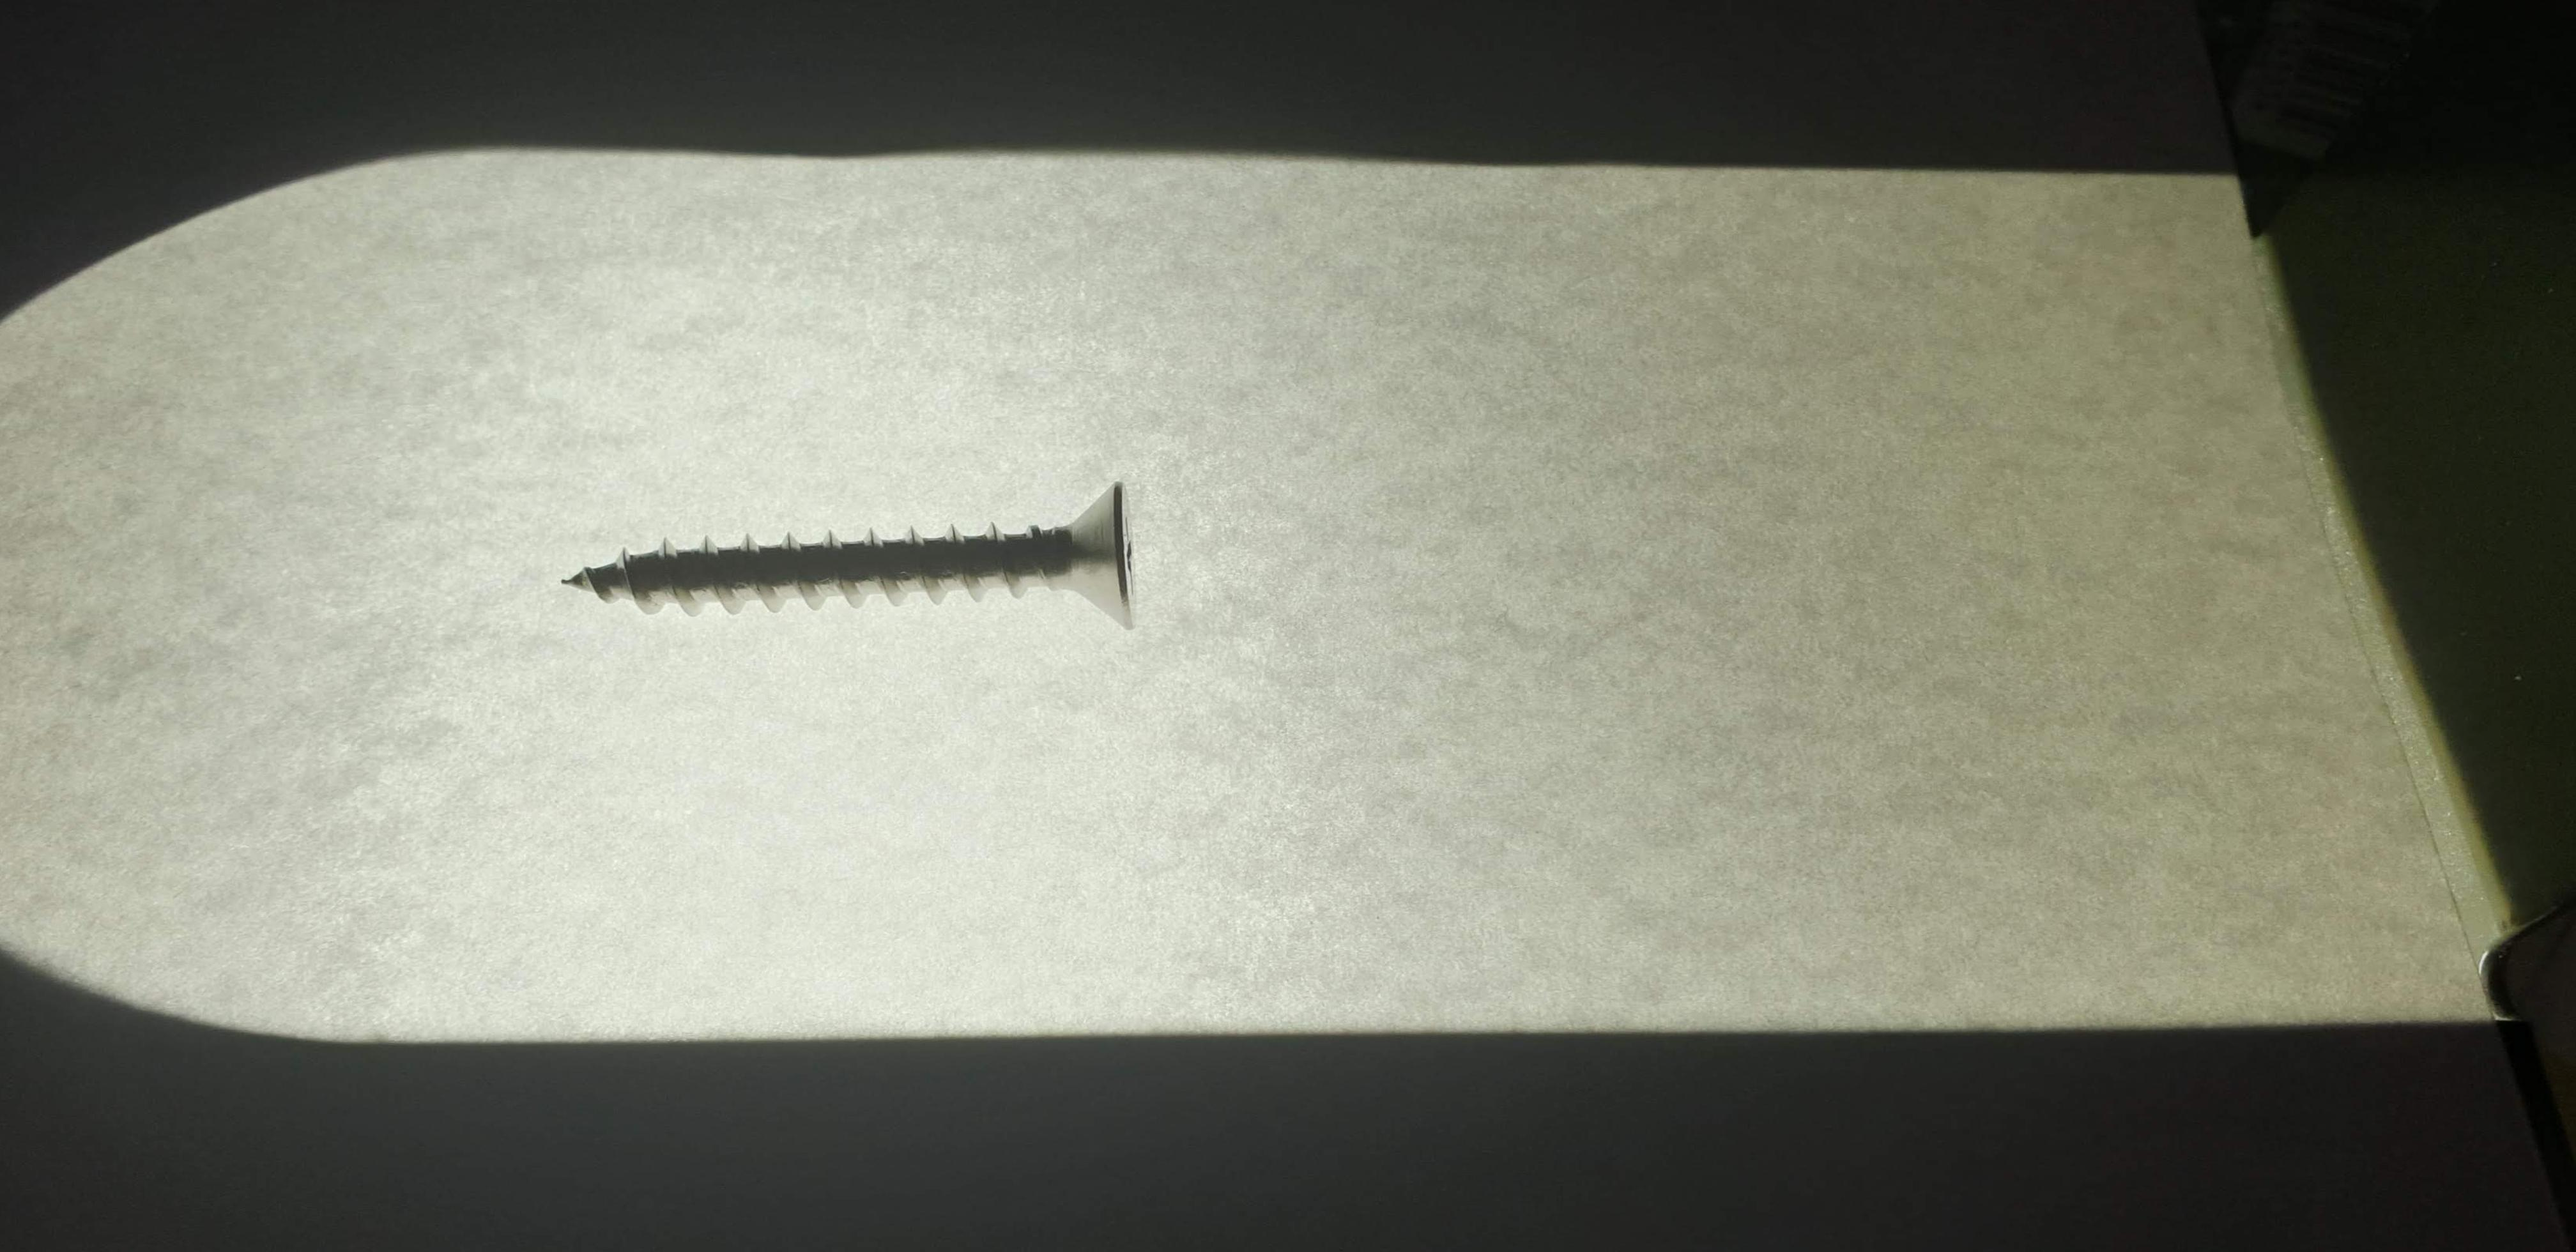S004: (509, 453, 1217, 684)
